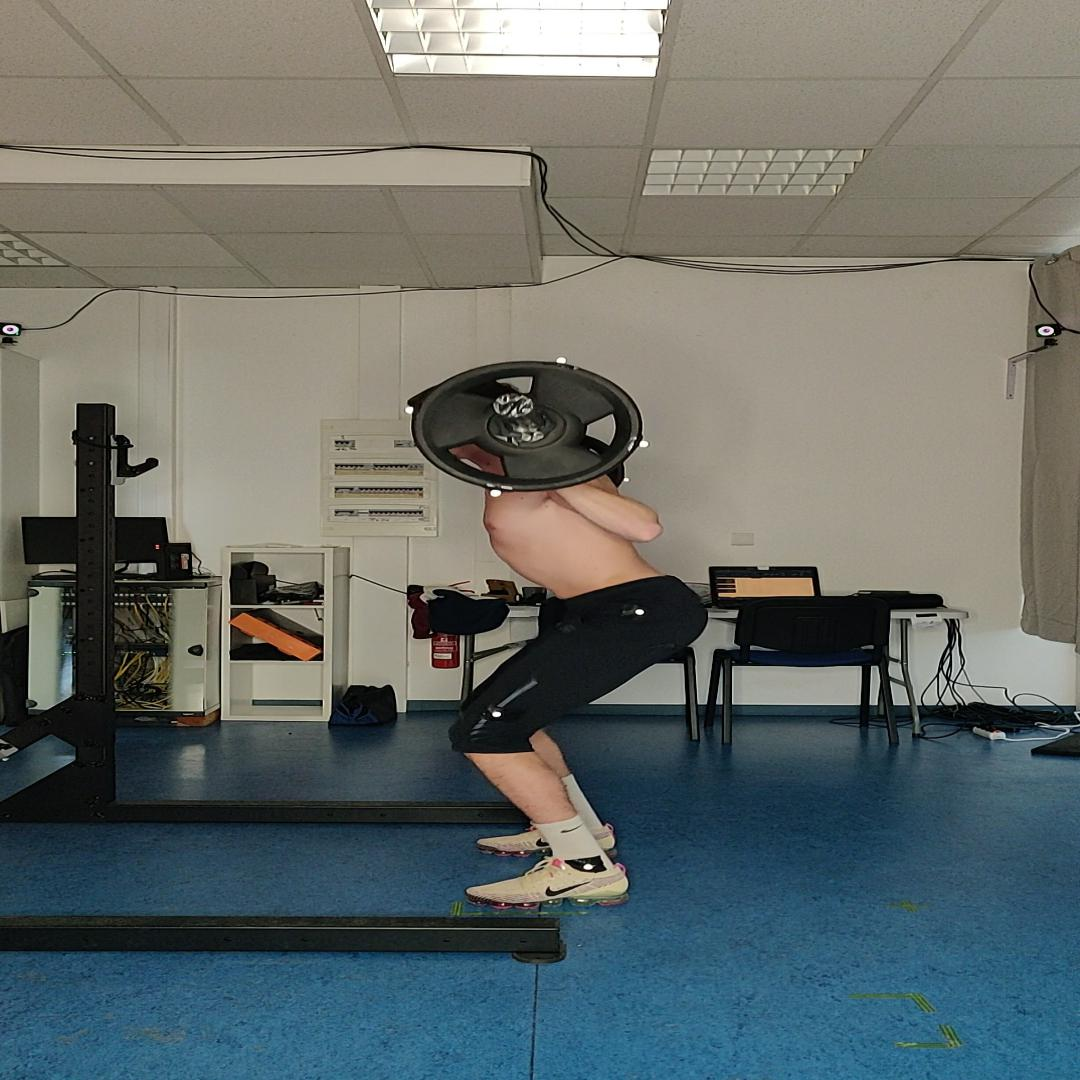Bar: (492, 393, 535, 417)
Barbell: (412, 361, 642, 492)
